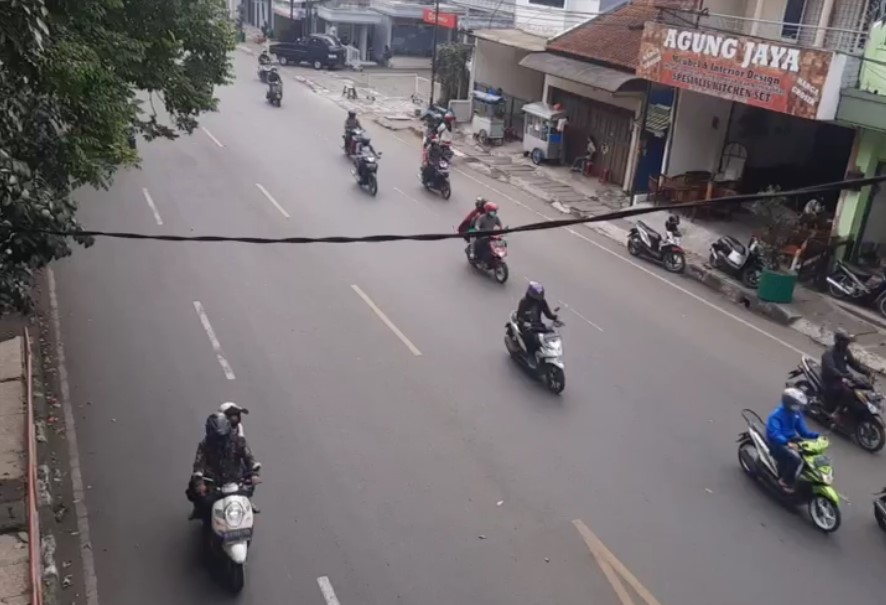motor: (181, 407, 271, 586), (739, 388, 842, 537), (790, 329, 885, 454), (502, 281, 578, 393), (461, 202, 519, 284), (415, 136, 458, 197), (350, 138, 389, 202), (333, 106, 368, 149)
